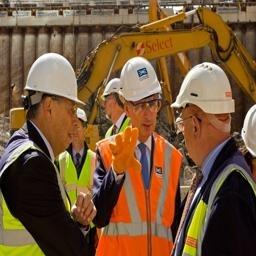hat: (24, 44, 87, 135), (169, 56, 237, 130), (114, 52, 168, 117), (240, 88, 256, 181), (98, 78, 126, 124), (74, 104, 92, 160)
vest: (94, 130, 179, 249), (1, 117, 70, 256), (175, 157, 256, 256), (59, 138, 103, 232), (98, 120, 135, 142)
